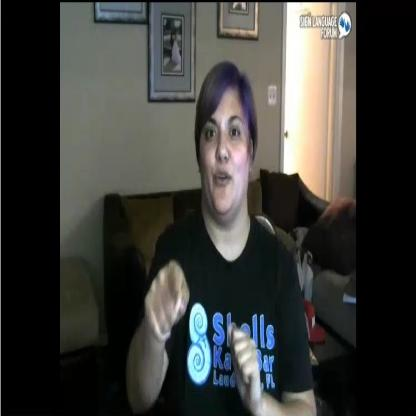NiceToMeetYou: (130, 240, 198, 351)
